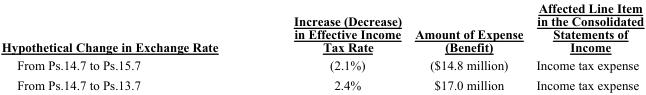table: (0, 0, 643, 91)
table column: (0, 0, 255, 91), (255, 0, 407, 91), (407, 0, 529, 91), (529, 0, 643, 91)
table column header: (0, 0, 643, 55)
table row: (0, 0, 643, 55), (0, 55, 643, 74), (0, 74, 643, 91)
